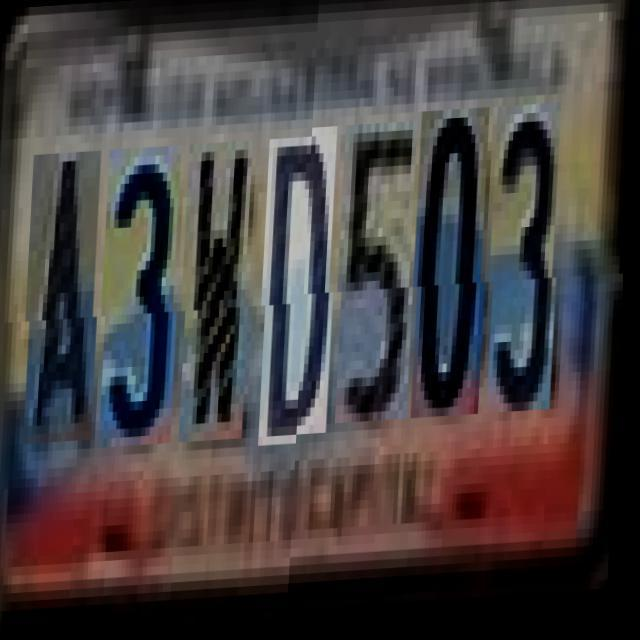3: (104, 148, 188, 450), (491, 119, 566, 429)
5: (339, 136, 423, 438)
A: (28, 152, 107, 445)
D: (264, 139, 344, 450)
O: (415, 122, 495, 434)
W: (184, 144, 258, 446)
